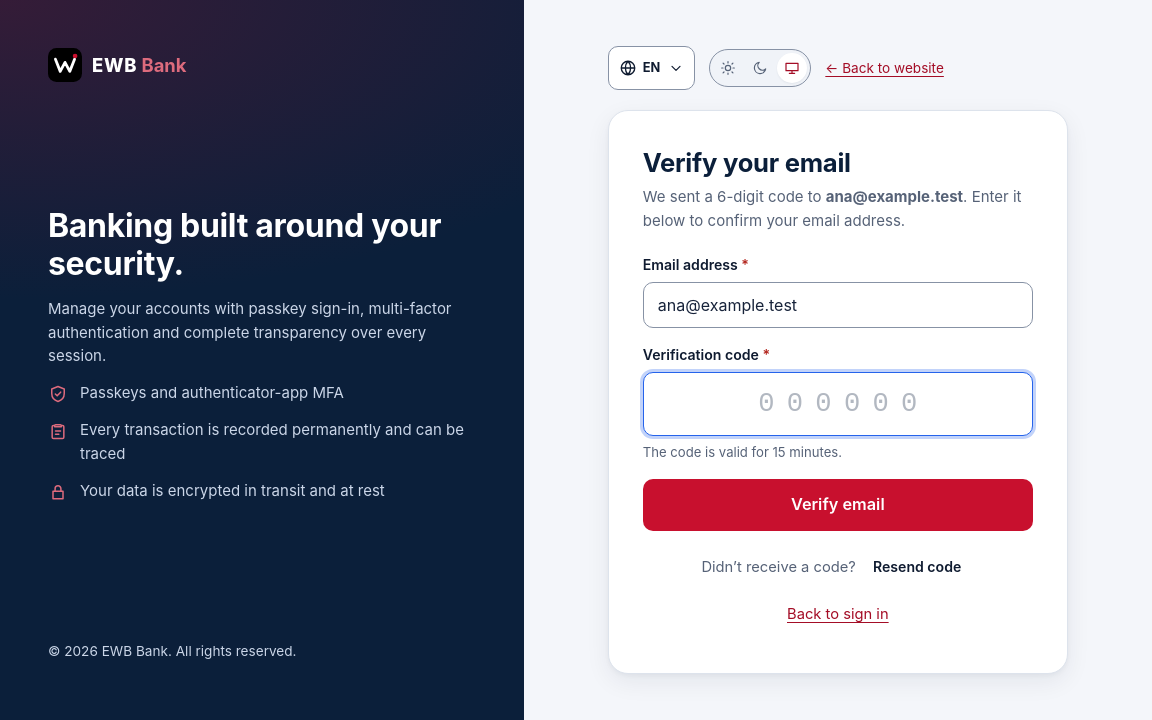
Test: VerifyEmail page (6-digit code) › submits email + code when the button is clicked and then shows the success state
Type "482917" into the field labelled "Verification code *" at (838, 404), box [643, 372, 1033, 436]
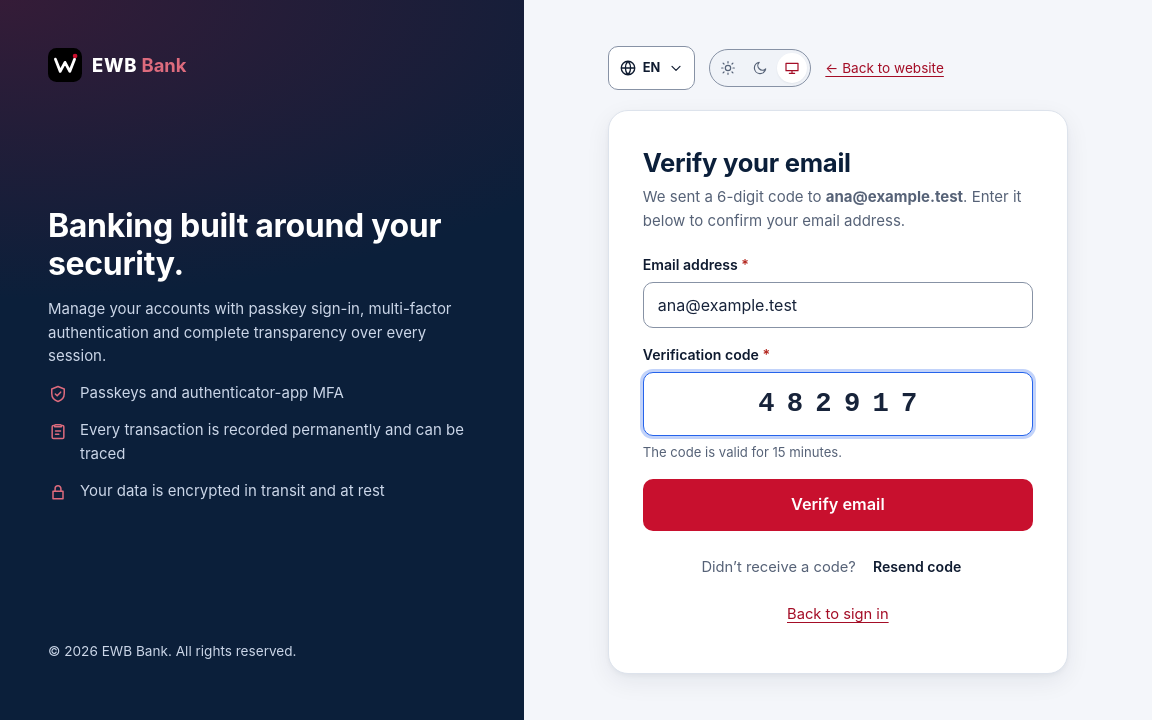
Click the button "Verify email" at (838, 505), box [643, 479, 1033, 531]
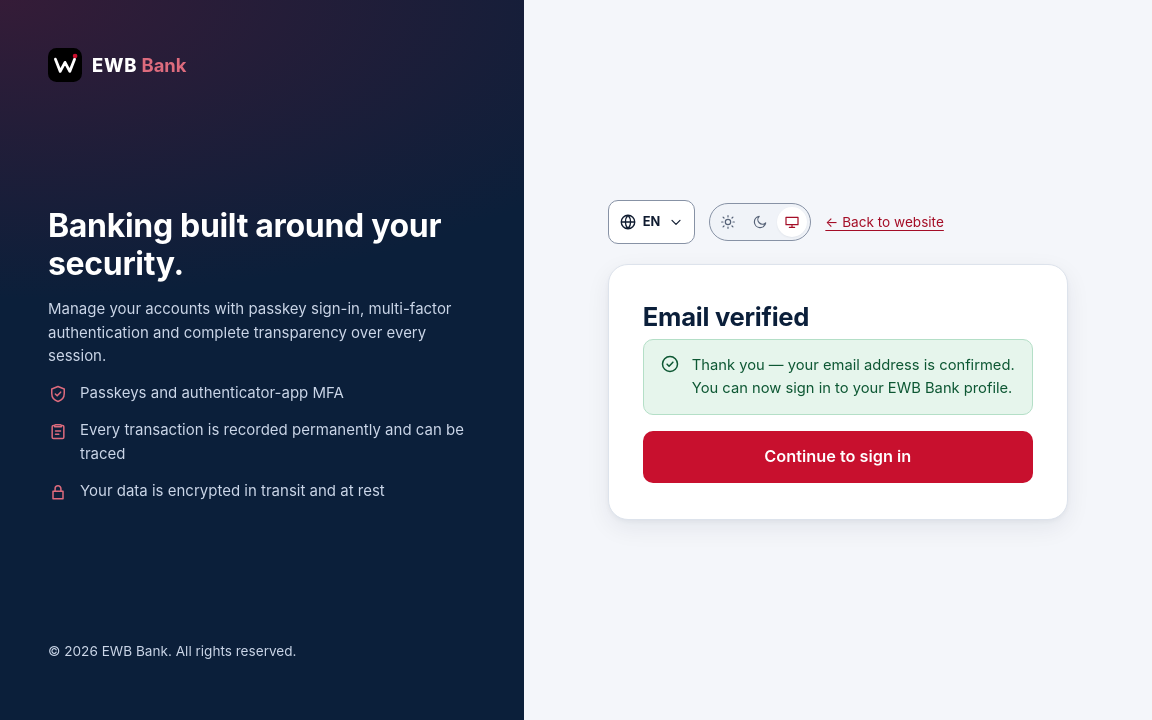
Now the text "your email address is confirmed" is shown, box [692, 356, 1015, 397]
